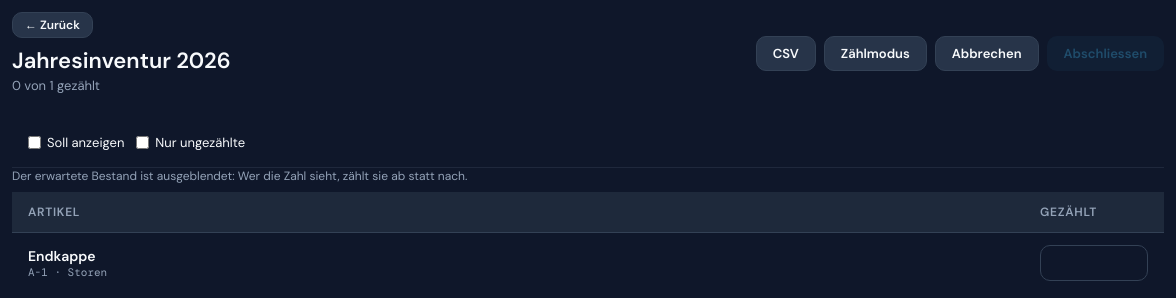
Scenario: Zählmaske › blendet den Soll-Bestand aus, bis jemand ihn ausdrücklich sehen will
Expected: the text "Endkappe" is shown, 28,247 -> 96,265
Expected: the text "10 Stk" is not shown
Click the checkbox labelled "Soll anzeigen". click: (34, 142)
box: 28,136 -> 41,149
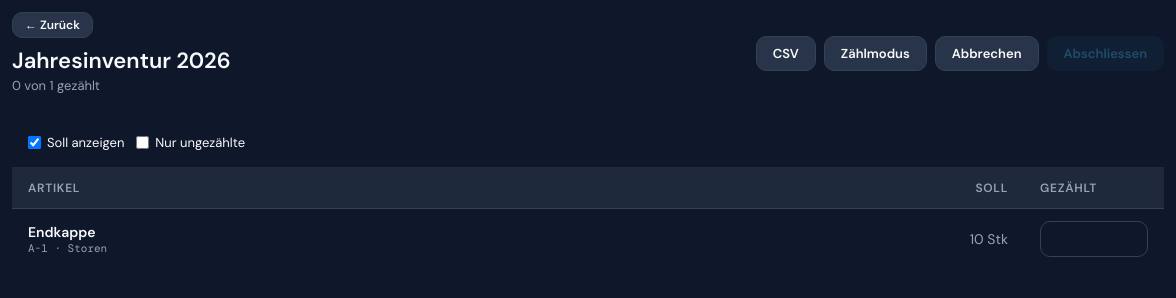
Expected: the text "10 Stk" is shown, 632,208 -> 1024,269
